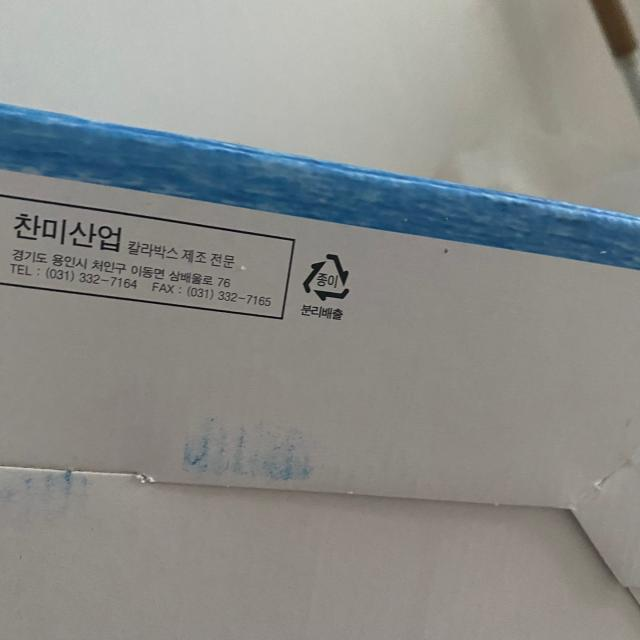Paper: (301, 251, 354, 303)
